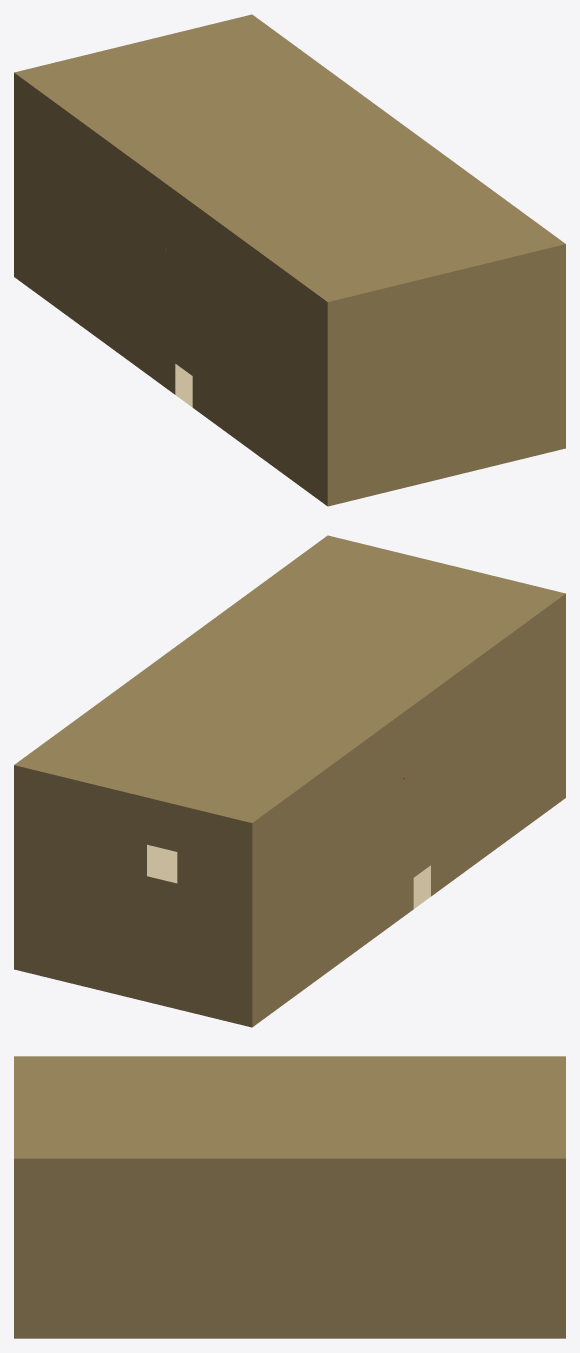
The model's file is Room007.fbx.
3 views of the same model, one above another, from view 1: azimuth 30°, elevation 25°; view 2: azimuth 150°, elevation 25°; view 3: azimuth 270°, elevation 25° (orthographic). The views are drawn at different scales.
Parts seen in each view (by area): view 1: Cube; view 2: Cube; view 3: Cube.
Part boxes in pixels (x1,y1,x2,y2): Cube: (14, 14, 565, 506); Cube: (14, 535, 565, 1027); Cube: (14, 1056, 565, 1338).
Size of the model in its own units: 3169 by 2593 by 7215.
